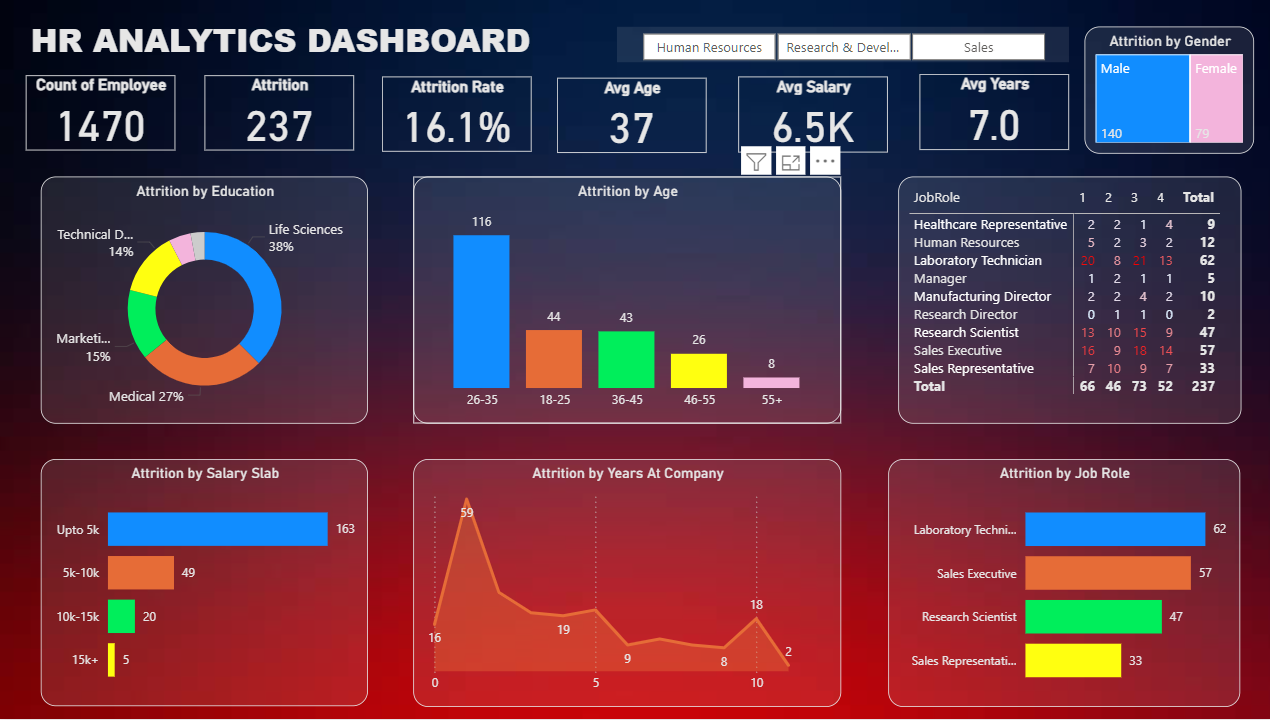

This screenshot's page, from the dashboard's own definition file:
{"tool":"powerbi","page":{"name":"Page 1","canvas":[1280,720],"ordinal":0},"visuals":[{"type":"card","title":"Count of Employee","fields":{"Values":["CountNonNull(HR_Analytics.EmpID)"]},"box":[29.3,75.7,149.6,75.5],"z":0},{"type":"card","title":"Attrition","fields":{"Values":["Sum(HR_Analytics.AttritionCount)"]},"box":[207.7,75.7,149.6,75.5],"z":1000},{"type":"card","title":"Attrition Rate","fields":{"Values":["HR_Analytics.AttritionRate"]},"box":[384.7,77.1,149.6,75.5],"z":2000},{"type":"card","title":"Avg Age","fields":{"Values":["Avg(HR_Analytics.Age)"]},"box":[560.4,78.4,149.6,75.5],"z":3000},{"type":"card","title":"Avg Salary","fields":{"Values":["Avg(HR_Analytics.MonthlyIncome)"]},"box":[741.8,77.6,149.6,76],"z":4000},{"type":"card","title":"Avg Years","fields":{"Values":["Avg(HR_Analytics.YearsAtCompany)"]},"box":[922.8,75.2,149.6,76],"z":5000},{"type":"donutChart","title":"Attrition by Education","fields":{"Category":["HR_Analytics.EducationField"],"Y":["Sum(HR_Analytics.AttritionCount)"]},"box":[43.6,177.5,327.3,247.3],"z":6000},{"type":"columnChart","title":"Attrition by Age","fields":{"Category":["HR_Analytics.AgeGroup"],"Y":["Sum(HR_Analytics.AttritionCount)"]},"box":[415.8,177.7,428,247.3],"z":6001},{"type":"pivotTable","title":"Job Satisfaction","fields":{"Rows":["HR_Analytics.JobRole"],"Columns":["HR_Analytics.JobSatisfaction"],"Values":["Sum(HR_Analytics.AttritionCount)"]},"box":[900.8,177.5,343.1,247.3],"z":6002},{"type":"barChart","title":"Attrition by Salary Slab","fields":{"Category":["HR_Analytics.SalarySlab"],"Y":["Sum(HR_Analytics.AttritionCount)"]},"box":[43.6,460,327.3,247.3],"z":6003},{"type":"barChart","title":"Attrition by Job Role","fields":{"Category":["HR_Analytics.JobRole"],"Y":["Sum(HR_Analytics.AttritionCount)"]},"box":[891.5,459.4,351.8,248],"z":6004},{"type":"areaChart","title":"Attrition by Years At Company","fields":{"Category":["HR_Analytics.YearsAtCompany"],"Y":["Sum(HR_Analytics.AttritionCount)"]},"box":[415.8,459.4,428.2,248],"z":6005},{"type":"treemap","title":"Attrition by Gender","fields":{"Group":["HR_Analytics.Gender"],"Values":["Sum(HR_Analytics.AttritionCount)"]},"box":[1087.5,27.9,169.7,127.3],"z":6006},{"type":"slicer","fields":{"Values":["HR_Analytics.Department"]},"box":[619.5,27.4,452.2,36.4],"z":6007},{"type":"textbox","box":[29.1,12.1,572.2,57],"z":6008}]}

Visuals, with their boxes in screenshot pixels (x1, y1, x2, y2), scaled from the page's 1280x720 canvas onto the 1270x720 screenshot:
"Count of Employee" card: left=29, top=76, right=178, bottom=151
"Attrition" card: left=206, top=76, right=355, bottom=151
"Attrition Rate" card: left=382, top=77, right=530, bottom=153
"Avg Age" card: left=556, top=78, right=704, bottom=154
"Avg Salary" card: left=736, top=78, right=884, bottom=154
"Avg Years" card: left=916, top=75, right=1064, bottom=151
"Attrition by Education" donutChart: left=43, top=178, right=368, bottom=425
"Attrition by Age" columnChart: left=413, top=178, right=837, bottom=425
"Job Satisfaction" pivotTable: left=894, top=178, right=1234, bottom=425
"Attrition by Salary Slab" barChart: left=43, top=460, right=368, bottom=707
"Attrition by Job Role" barChart: left=885, top=459, right=1234, bottom=707
"Attrition by Years At Company" areaChart: left=413, top=459, right=837, bottom=707
"Attrition by Gender" treemap: left=1079, top=28, right=1247, bottom=155
slicer - HR_Analytics.Department: left=615, top=27, right=1063, bottom=64
textbox: left=29, top=12, right=597, bottom=69
